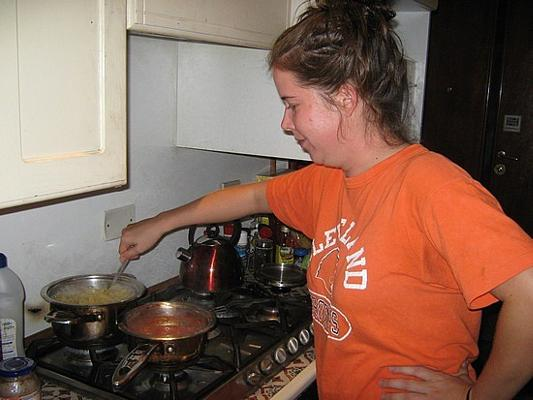person: (119, 11, 532, 400)
